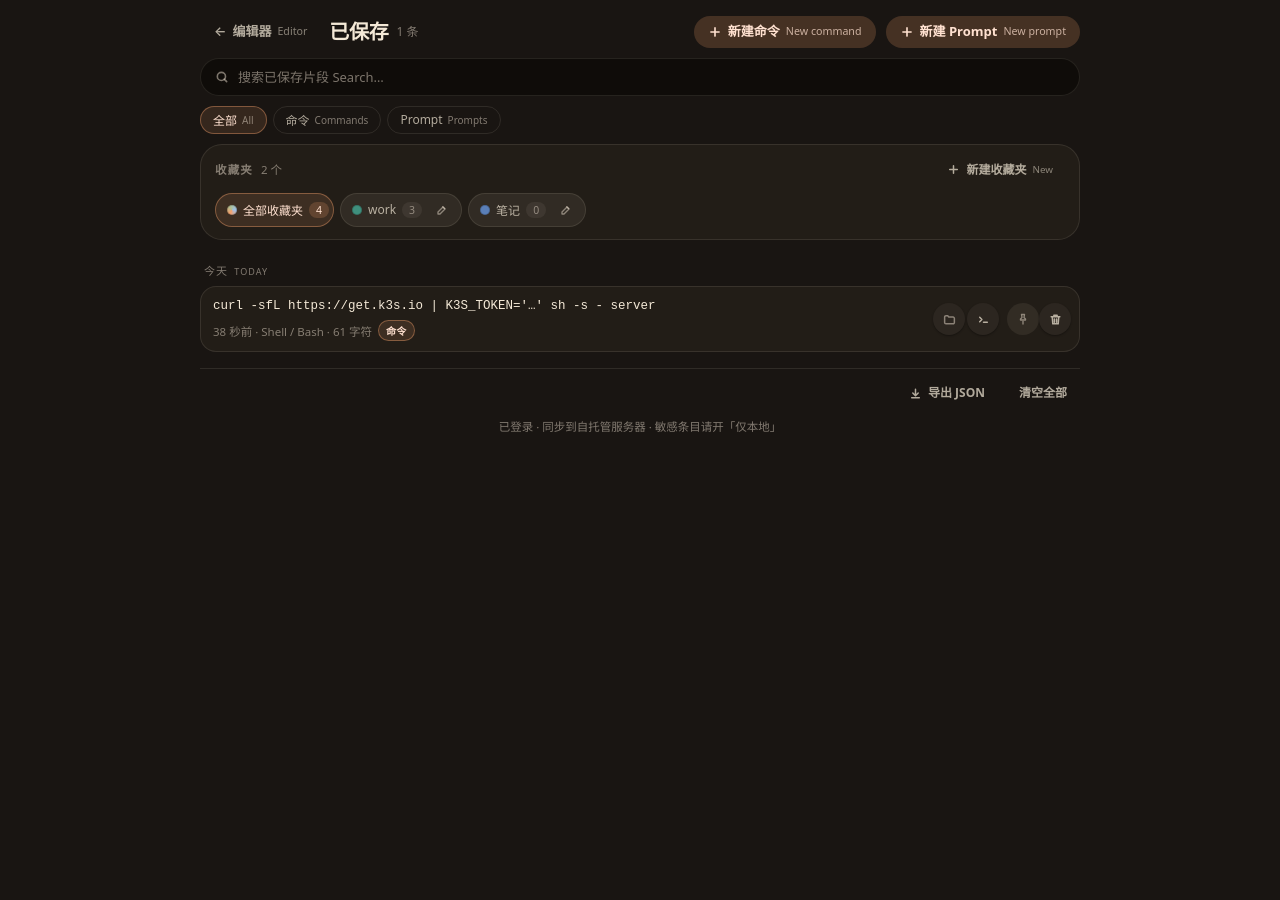
Scenario: SavedPage（收藏夹管理，云端模式） › 编辑收藏夹：改名称与颜色后 PATCH
The width and height of the screenshot is (1280, 900).
Click the button named "管理收藏夹「work」" at (442, 210), box [426,194,458,226]
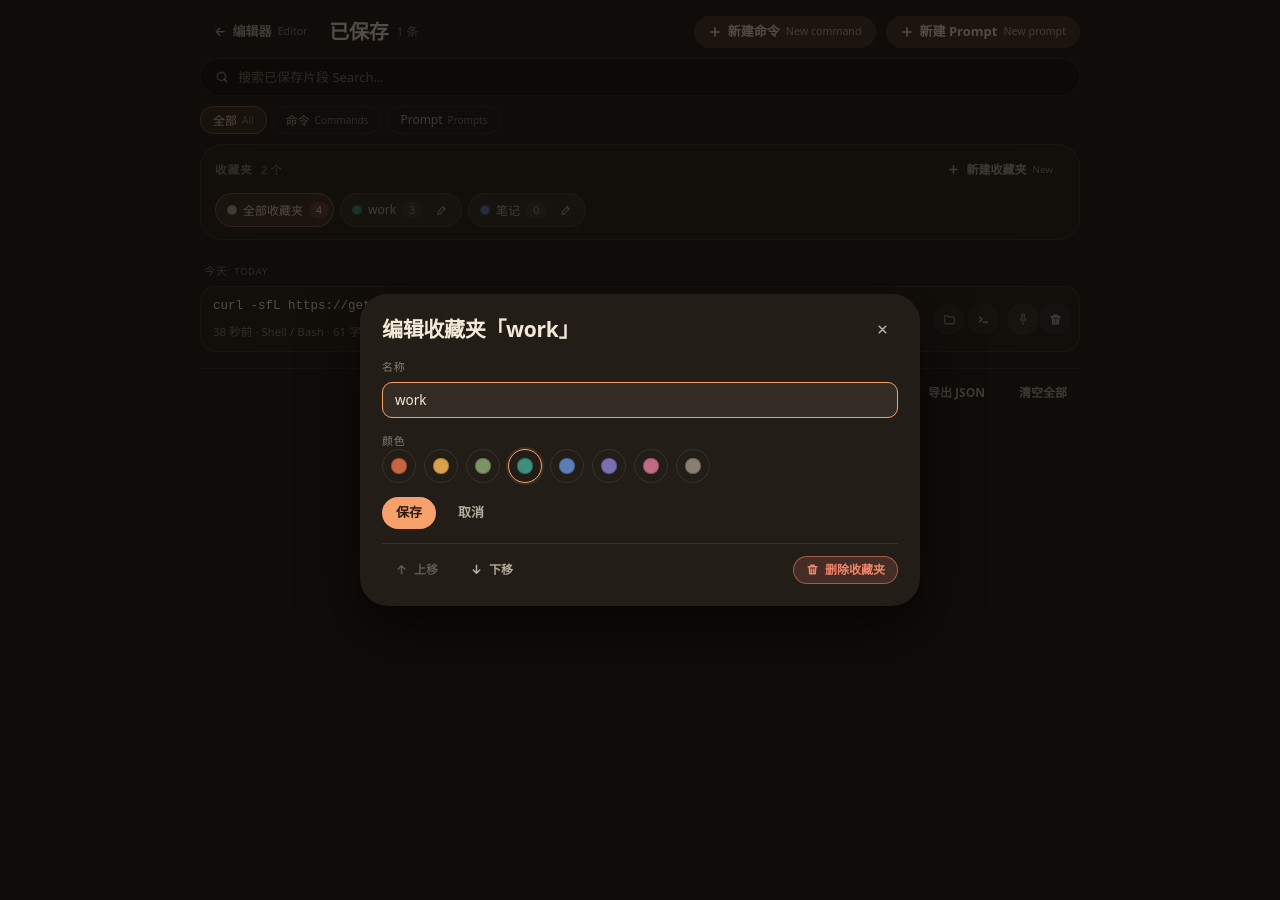
Result: the field labelled "名称" holds "work"
Replace the text in the field labelled "名称" with "工作" at (640, 400), box [382,382,898,418]
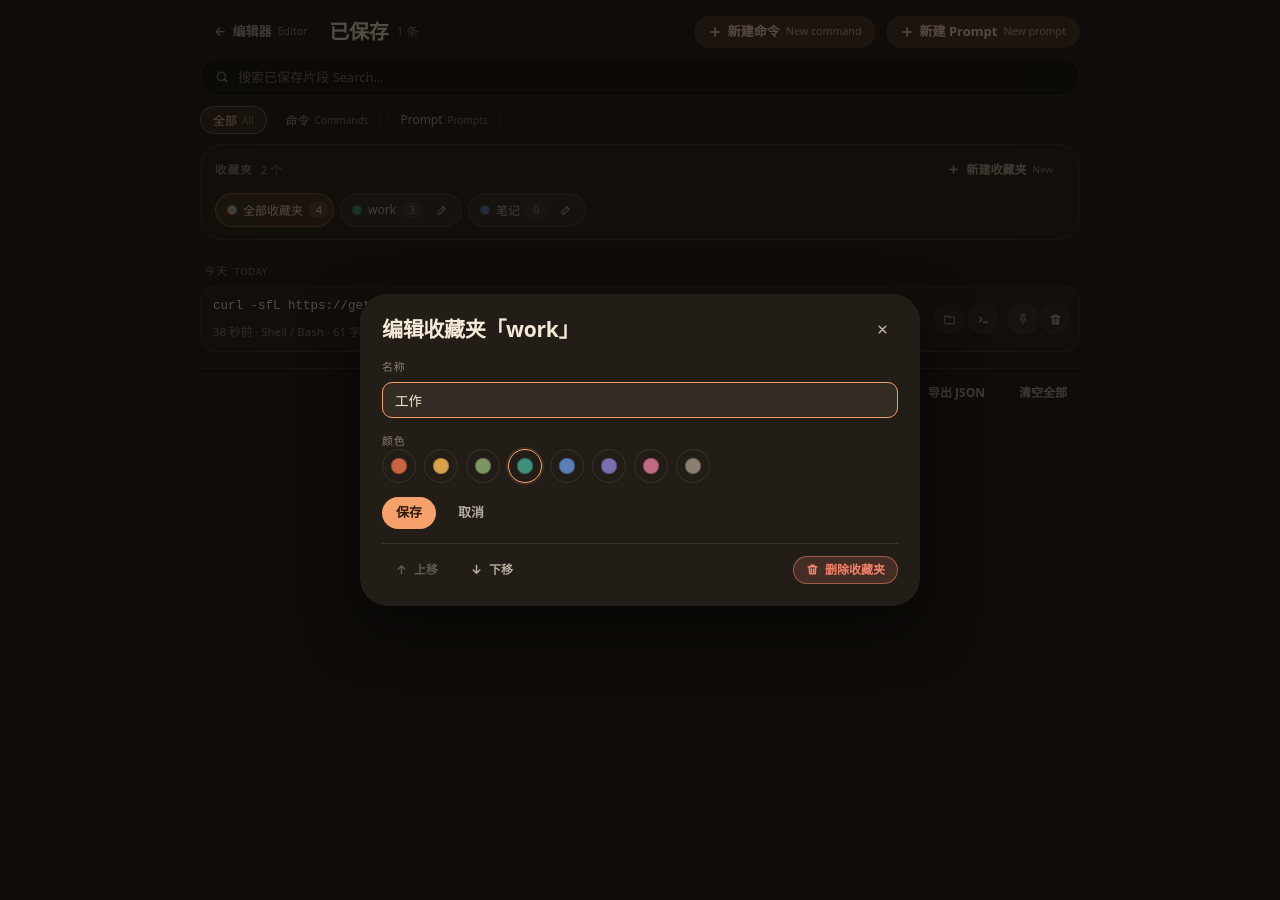
Click the radio button named "玫瑰" at (651, 466), box [634,449,668,483]
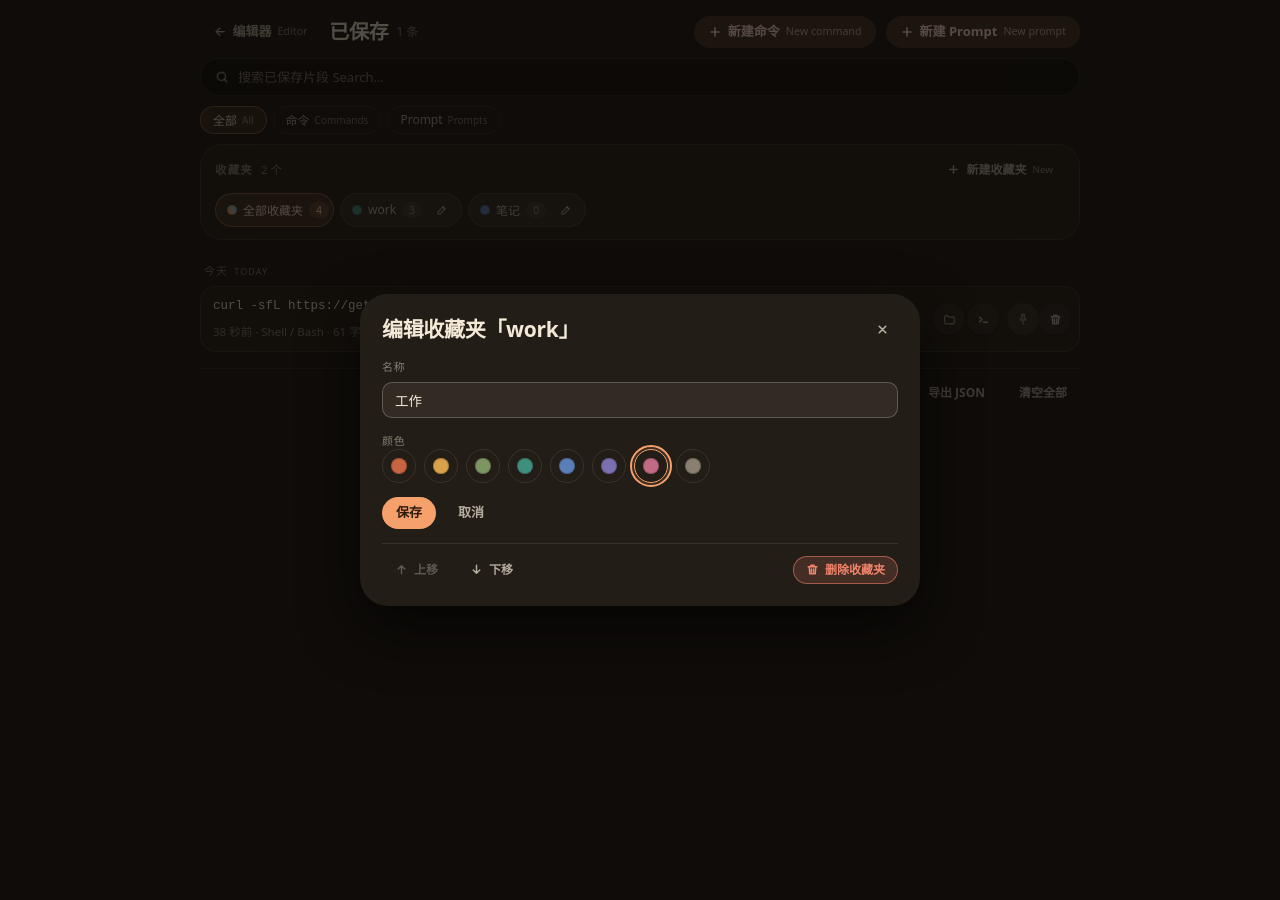
Click the button "保存" at (409, 513), box [382,497,436,529]
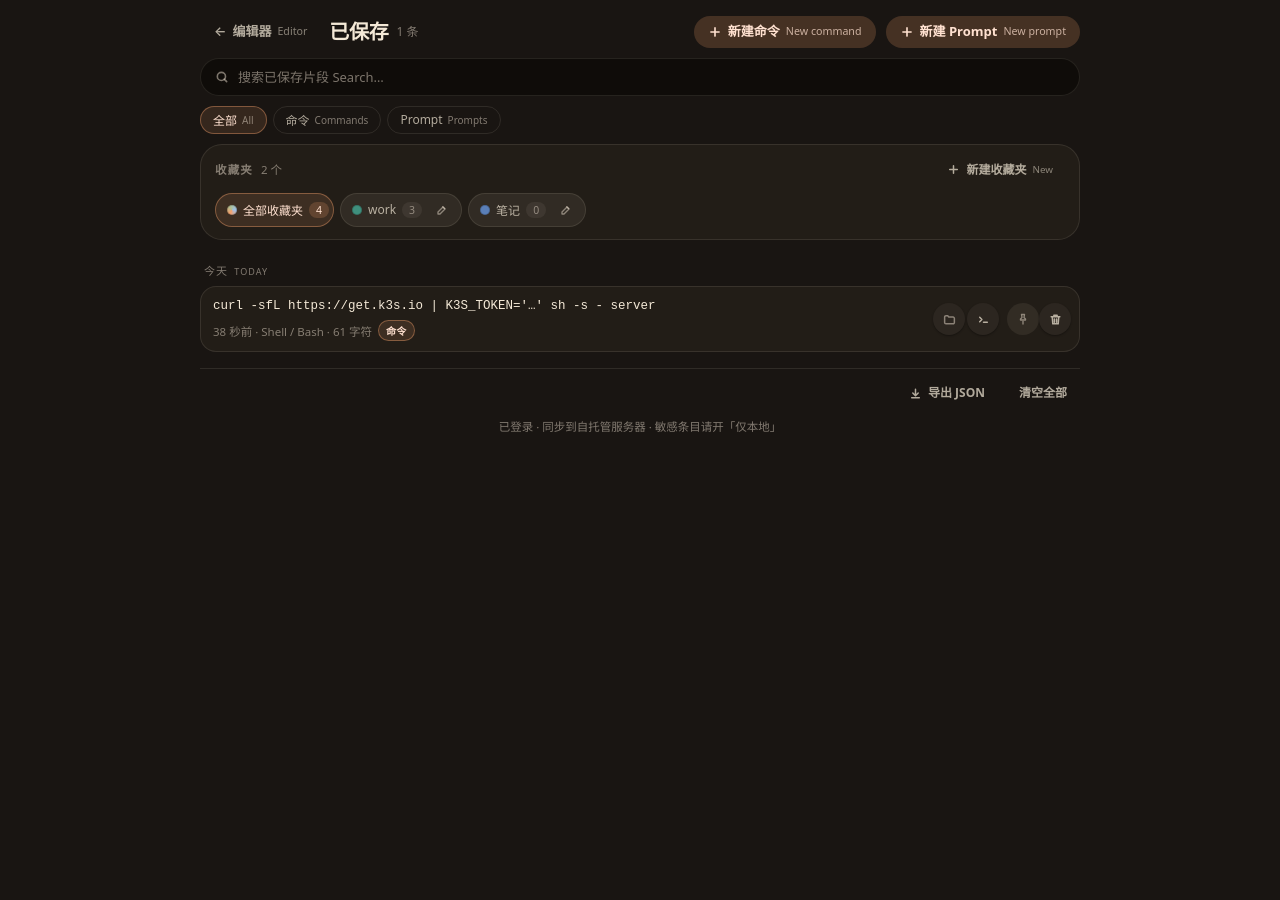
Result: the dialog is gone
